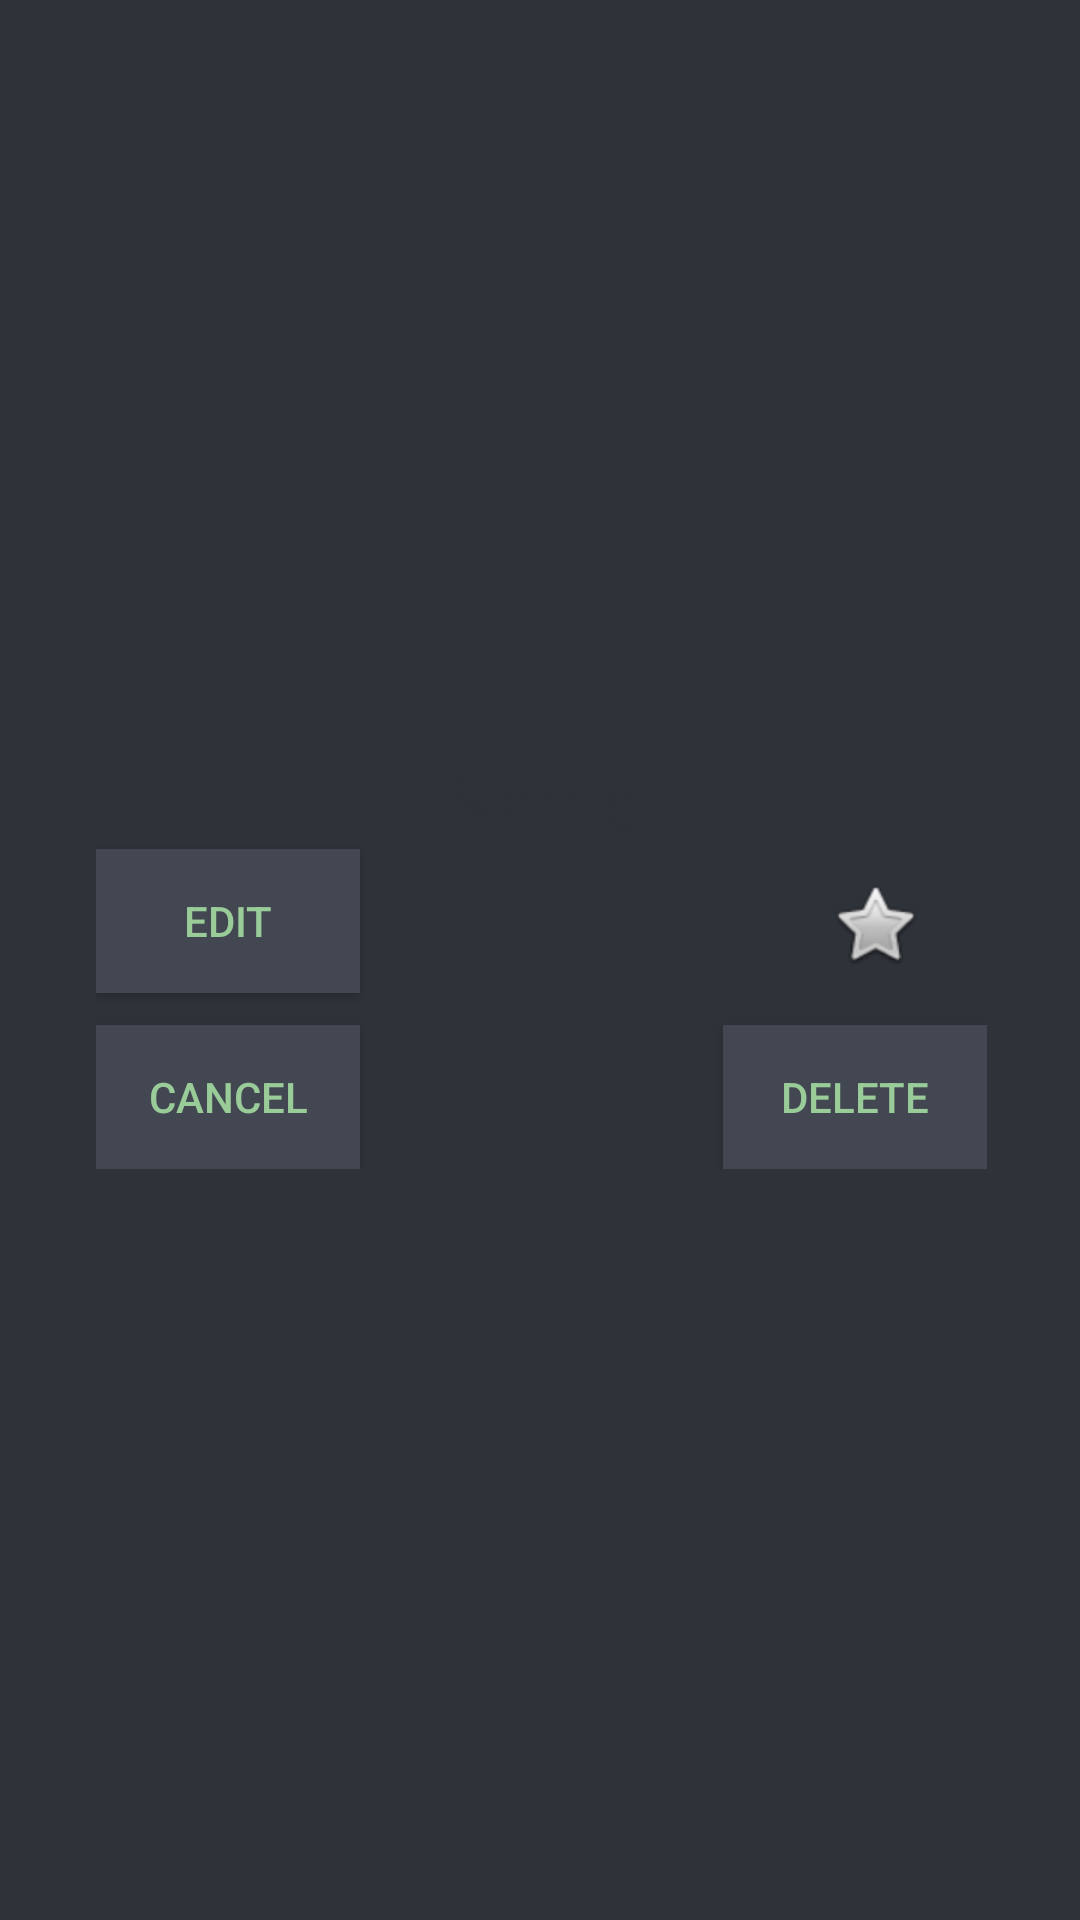

Screen size 1080×1920. Icon name, then its center in pixels as point (x, y):
star off: point (876, 923)
